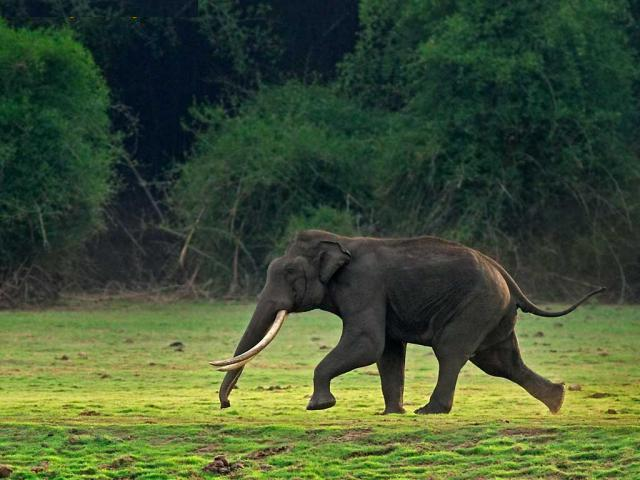elephant: (205, 213, 609, 434)
